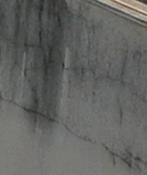fissura: (0, 29, 145, 171)
